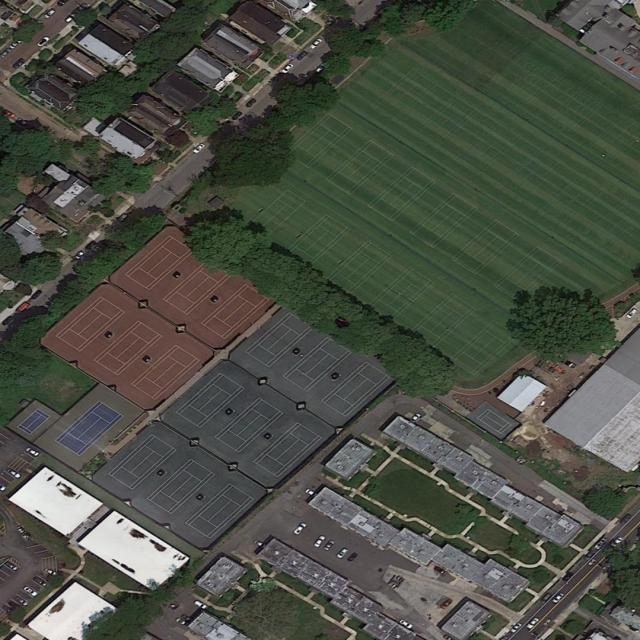small-vehicle: (14, 300, 33, 314), (293, 522, 310, 536), (593, 537, 610, 551), (307, 36, 325, 49), (22, 585, 39, 598), (526, 616, 541, 630), (539, 592, 554, 606), (11, 57, 27, 70), (2, 604, 18, 617), (24, 447, 41, 459), (5, 468, 22, 480), (32, 575, 49, 587), (583, 549, 598, 562), (619, 513, 634, 526), (610, 536, 625, 549), (8, 599, 23, 612), (37, 35, 53, 47), (192, 143, 208, 155), (192, 600, 209, 611), (14, 596, 31, 607), (314, 535, 327, 549), (85, 240, 99, 253), (550, 592, 565, 604), (295, 50, 310, 62), (398, 619, 414, 630), (440, 598, 454, 610), (510, 622, 524, 634), (2, 315, 16, 327), (75, 2, 90, 13), (9, 38, 24, 49), (304, 488, 319, 499), (254, 539, 269, 550), (180, 614, 195, 625), (174, 618, 190, 628), (323, 540, 336, 552), (626, 308, 639, 320), (336, 548, 350, 559), (433, 565, 447, 576), (562, 571, 576, 582), (5, 561, 19, 572), (43, 568, 59, 577), (64, 13, 77, 24), (231, 111, 244, 122), (16, 117, 30, 127), (3, 109, 16, 119), (346, 553, 359, 563), (282, 63, 295, 73), (31, 289, 44, 299), (410, 413, 422, 423), (246, 98, 258, 108), (44, 9, 57, 18), (74, 250, 85, 260), (314, 65, 325, 74)
